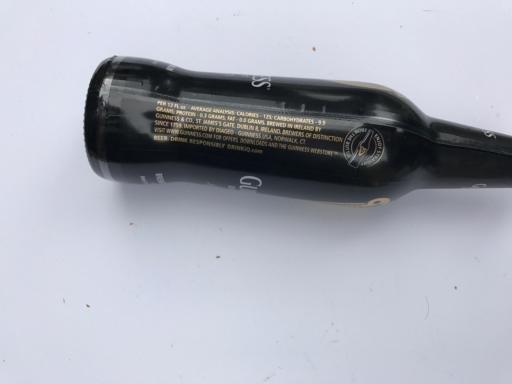botolkaca: (83, 55, 512, 207)
